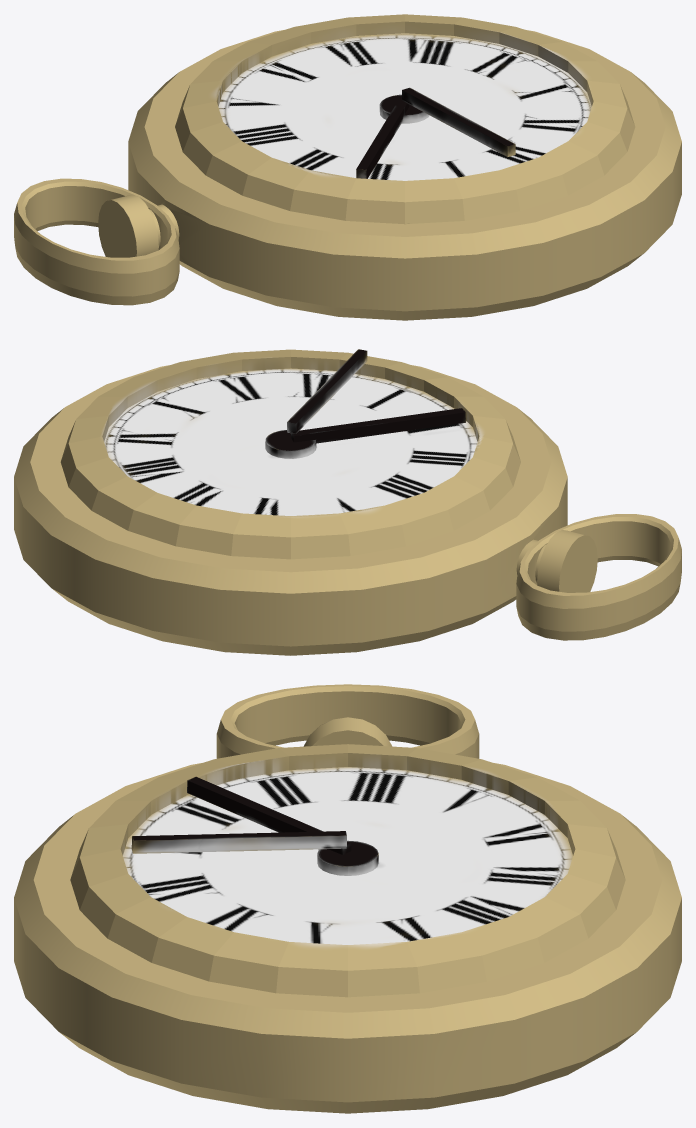
The model's file is pocketwatch_base.fbx.
The picture shows the model from 3 angles, top to bottom: view 1: azimuth 30°, elevation 25°; view 2: azimuth 150°, elevation 25°; view 3: azimuth 270°, elevation 25°; orthographic projection. The views are drawn at different scales.
Visible parts, largest first — view 1: polySurface16, polySurface14, polySurface15; view 2: polySurface16, polySurface15, polySurface14; view 3: polySurface16, polySurface14, polySurface15.
Boxes of the visible parts, left/top/right/bottom form: polySurface16: left=14, top=14, right=681, bottom=320; polySurface14: left=402, top=87, right=515, bottom=156; polySurface15: left=356, top=99, right=409, bottom=178; polySurface16: left=14, top=349, right=681, bottom=655; polySurface15: left=291, top=408, right=465, bottom=443; polySurface14: left=287, top=349, right=367, bottom=433; polySurface16: left=14, top=684, right=681, bottom=1113; polySurface14: left=131, top=831, right=346, bottom=853; polySurface15: left=187, top=776, right=351, bottom=854.
Bounding box in the file's own units: 14.36 × 2.87 × 11.27.
